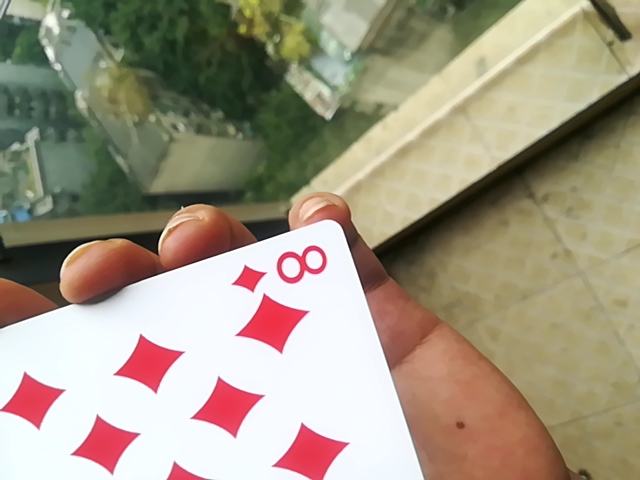fk 8: (3, 212, 439, 479)
